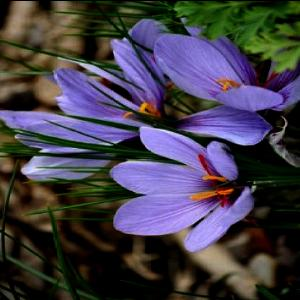Saffron: (5, 15, 175, 177), (109, 128, 259, 246), (180, 12, 298, 110)
